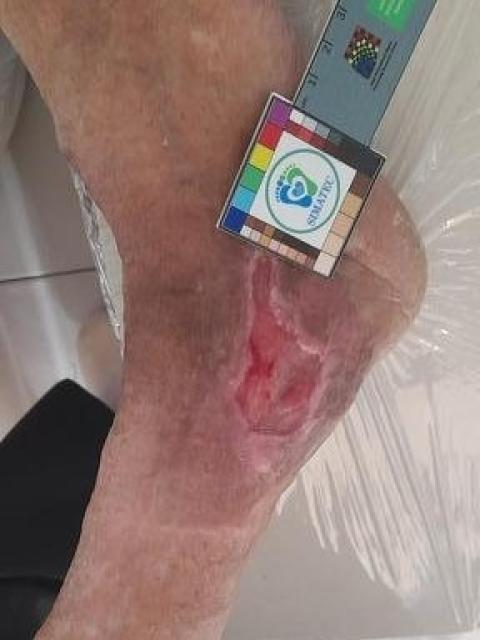wound: (233, 254, 327, 442)
